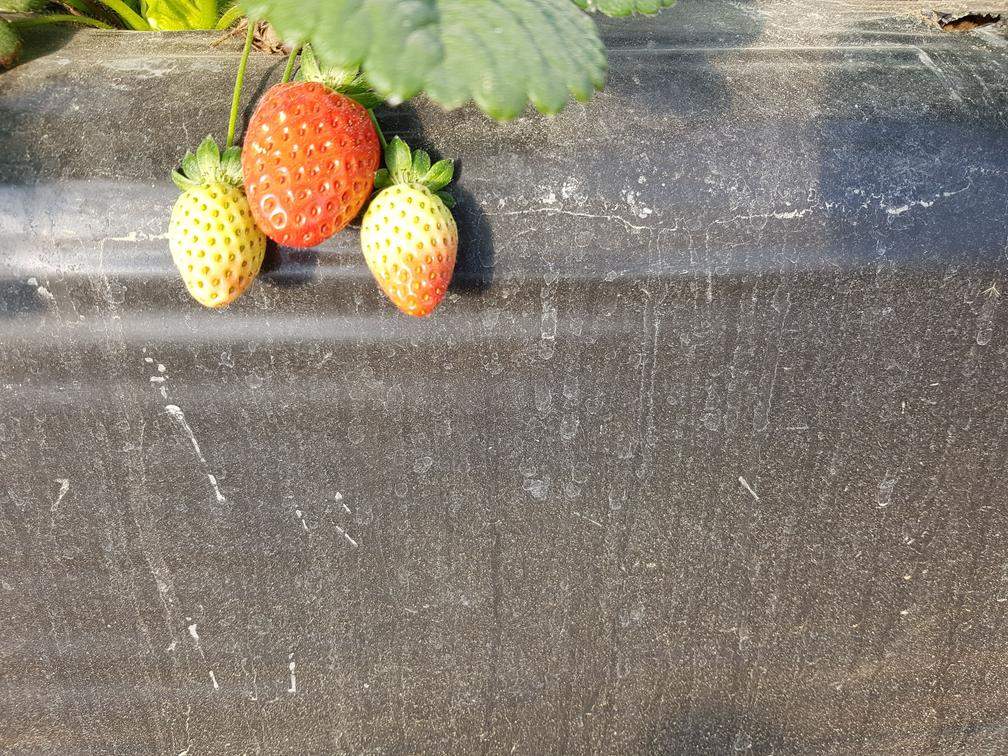Ripe: (239, 74, 376, 245)
Unripe: (360, 183, 465, 321), (160, 184, 271, 302)
